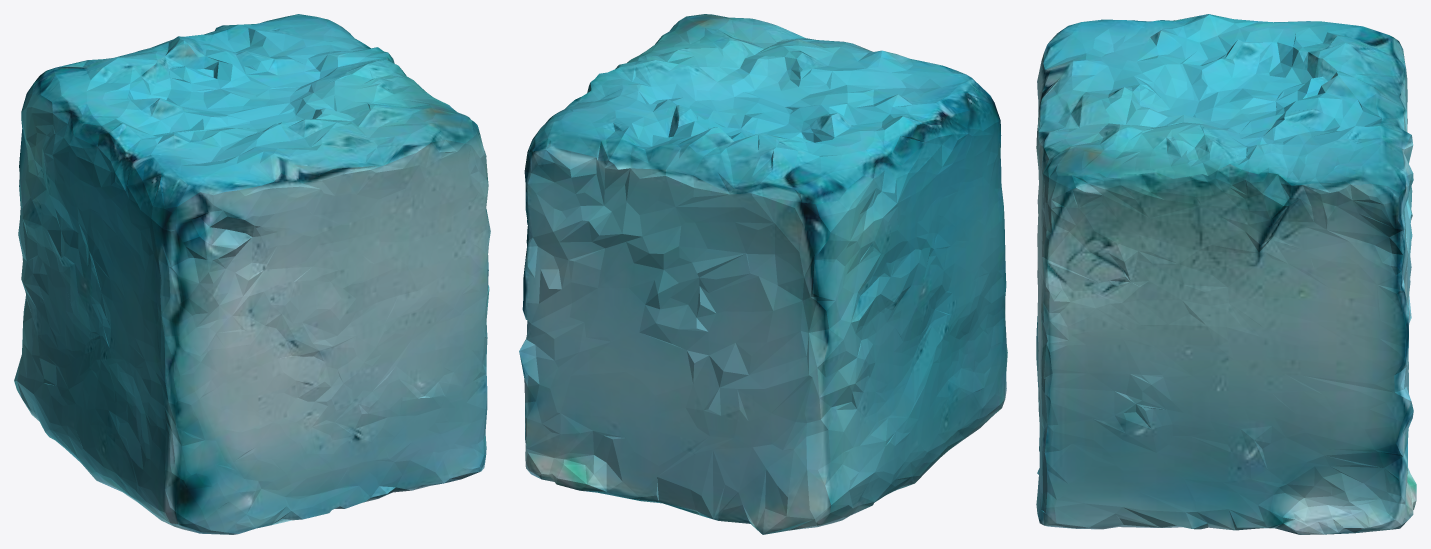
The model's file is ice.glb.
3 views of the same model, side by side, from view 1: azimuth 30°, elevation 25°; view 2: azimuth 150°, elevation 25°; view 3: azimuth 270°, elevation 25° (orthographic). The views are drawn at different scales.
Parts seen in each view (by area): view 1: ice; view 2: ice; view 3: ice.
Part boxes in pixels (bbox=[...]): ice: bbox=[14, 14, 490, 534]; ice: bbox=[519, 14, 1007, 534]; ice: bbox=[1036, 14, 1416, 534].
Size of the model in its own units: 1.88 by 1.99 by 1.82.
Materials: 1 (1 with a texture image).
